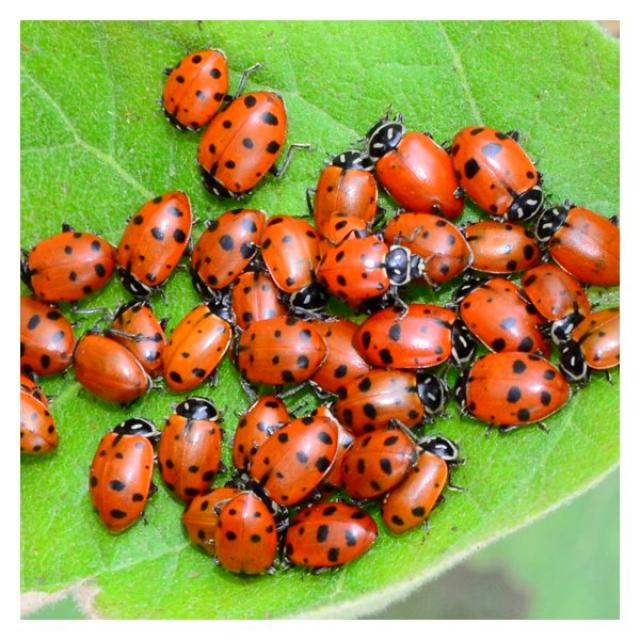ladybug: (364, 113, 463, 219), (197, 91, 286, 195), (251, 409, 346, 505), (455, 352, 570, 428), (450, 126, 542, 219), (353, 302, 475, 370), (115, 191, 191, 294), (90, 418, 159, 531), (316, 235, 423, 307), (453, 276, 549, 355), (331, 369, 446, 434), (382, 435, 458, 533), (21, 225, 115, 302), (534, 201, 619, 285), (162, 293, 235, 390), (192, 209, 267, 302), (260, 214, 327, 314), (383, 212, 473, 286), (158, 397, 221, 501), (285, 502, 377, 569), (238, 316, 325, 385), (315, 150, 377, 244), (521, 262, 590, 346), (161, 49, 228, 131), (74, 331, 150, 402), (340, 428, 416, 499), (214, 491, 277, 574), (310, 319, 369, 393), (20, 297, 75, 375), (110, 301, 165, 378), (233, 395, 290, 469), (561, 307, 618, 380), (463, 220, 540, 274), (182, 487, 239, 555), (231, 270, 286, 329), (21, 389, 58, 451), (319, 214, 367, 245)
